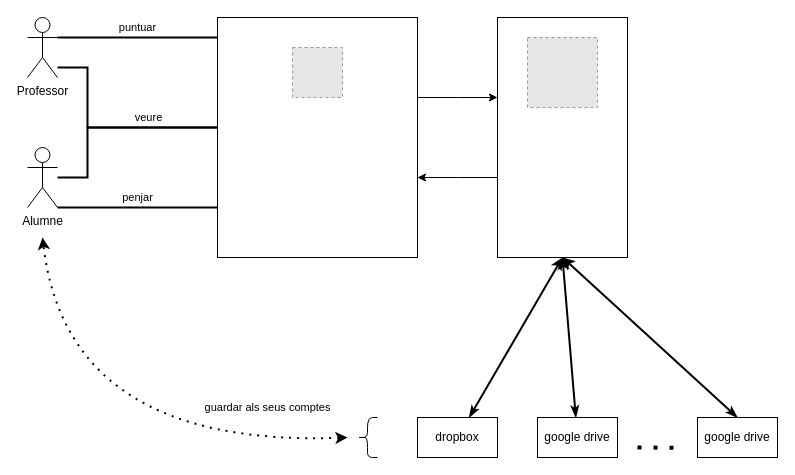
This 795x475 diagram has some shape labels left out. Grey dashed boxes stand in for pictures. Here are the shapes that lost their labels. From the top down, the box of each, then its label:
(216, 16, 418, 258): atenea
(496, 16, 628, 258): nexus
